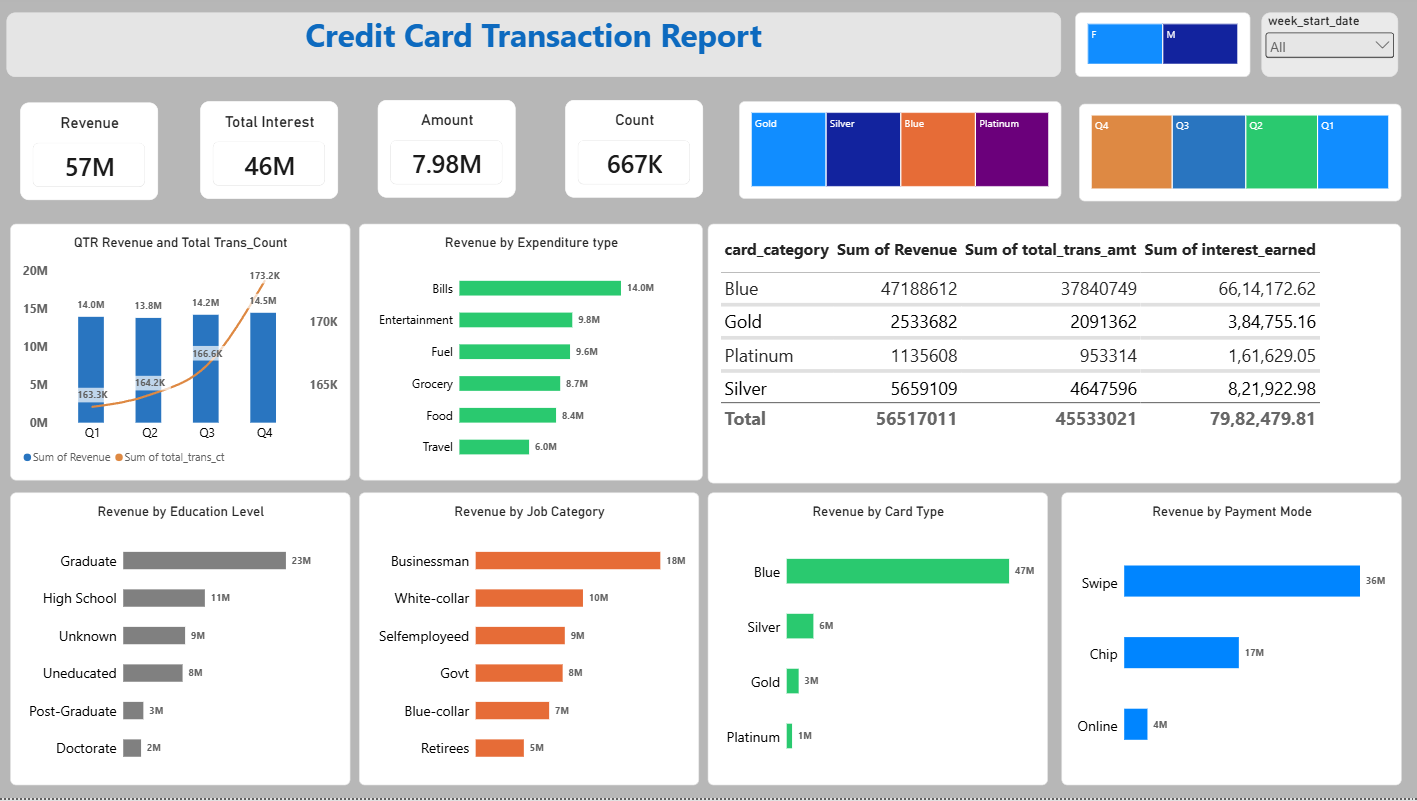

Layout of this report page (visuals, bound fields, positions):
{"tool":"powerbi","page":{"name":"CC Transaction Report","canvas":[1920,1080],"ordinal":1},"visuals":[{"type":"lineStackedColumnComboChart","title":"QTR Revenue and Total Trans_Count","fields":{"Category":["public cc_detail.qtr"],"Y":["Sum(public cc_detail.Revenue)"],"Y2":["Sum(public cc_detail.total_trans_ct)"]},"box":[14.5,302.3,459.7,347.5],"z":1000},{"type":"barChart","title":" Revenue by Expenditure type","fields":{"Category":["public cc_detail.exp_type"],"Y":["Sum(public cc_detail.Revenue)"]},"box":[486.9,302.3,465.2,347.5],"z":2000},{"type":"barChart","title":" Revenue by Education Level","fields":{"Category":["public cust_detail.education_level"],"Y":["Sum(public cc_detail.Revenue)"]},"box":[14.5,666.1,459.7,396.4],"z":3000},{"type":"barChart","title":" Revenue by Job Category","fields":{"Category":["public cust_detail.customer_job"],"Y":["Sum(public cc_detail.Revenue)"]},"box":[486.8,666,459.7,396.4],"z":4000},{"type":"barChart","title":" Revenue by Card Type","fields":{"Category":["public cc_detail.card_category"],"Y":["Sum(public cc_detail.Revenue)"]},"box":[959.1,666,459.7,396.4],"z":5000},{"type":"barChart","title":" Revenue by Payment Mode","fields":{"Category":["public cc_detail.use_chip"],"Y":["Sum(public cc_detail.Revenue)"]},"box":[1436.9,666,459.7,396.4],"z":6000},{"type":"tableEx","fields":{"Values":["public cc_detail.card_category","Sum(public cc_detail.Revenue)","Sum(public cc_detail.total_trans_amt)","Sum(public cc_detail.interest_earned)"]},"box":[959.1,302.2,937.4,351.1],"z":7000},{"type":"cardVisual","title":"Revenue","fields":{"Data":["Sum(public cc_detail.Revenue)"]},"box":[29,139.4,186.4,132.1],"z":8000},{"type":"cardVisual","title":"Total Interest","fields":{"Data":["Sum(public cc_detail.total_trans_amt)"]},"box":[271.5,137.6,186.4,132.1],"z":9000},{"type":"cardVisual","title":"Amount","fields":{"Data":["Sum(public cc_detail.interest_earned)"]},"box":[512.2,135.7,186.4,132.1],"z":10000},{"type":"cardVisual","title":"Count","fields":{"Data":["Sum(public cc_detail.total_trans_ct)"]},"box":[765.6,135.7,186.4,132.1],"z":11000},{"type":"textbox","box":[10.9,16.3,1426.2,86.9],"z":12000},{"type":"slicer","fields":{"Values":["public cc_detail.week_start_date"]},"box":[1706.8,16.3,184.6,86.9],"z":13000},{"type":"treemap","fields":{"Group":["public cc_detail.qtr"],"Values":["Avg(public cust_detail.client_num)"]},"box":[1460,140,436.2,132.1],"z":14000},{"type":"treemap","fields":{"Group":["public cust_detail.gender"],"Values":["Avg(public cust_detail.client_num)"]},"box":[1455.2,16.3,237.1,86.9],"z":15000},{"type":"treemap","fields":{"Group":["public cc_detail.card_category"],"Values":["Avg(public cust_detail.client_num)"]},"box":[1000.9,137.6,436.2,132.1],"z":16000}]}

Visuals, with their boxes in screenshot pixels (x1, y1, x2, y2), scaled from the page's 1920x1080 canvas onto the 1417x801 screenshot:
"QTR Revenue and Total Trans_Count" lineStackedColumnComboChart: (11,224,350,482)
" Revenue by Expenditure type" barChart: (359,224,703,482)
" Revenue by Education Level" barChart: (11,494,350,788)
" Revenue by Job Category" barChart: (359,494,699,788)
" Revenue by Card Type" barChart: (708,494,1047,788)
" Revenue by Payment Mode" barChart: (1060,494,1400,788)
tableEx - public cc_detail.card_category x Sum(public cc_detail.Revenue): (708,224,1400,485)
"Revenue" cardVisual: (21,103,159,201)
"Total Interest" cardVisual: (200,102,338,200)
"Amount" cardVisual: (378,101,516,199)
"Count" cardVisual: (565,101,703,199)
textbox: (8,12,1061,77)
slicer - public cc_detail.week_start_date: (1260,12,1396,77)
treemap - public cc_detail.qtr x Avg(public cust_detail.client_num): (1078,104,1399,202)
treemap - public cust_detail.gender x Avg(public cust_detail.client_num): (1074,12,1249,77)
treemap - public cc_detail.card_category x Avg(public cust_detail.client_num): (739,102,1061,200)
